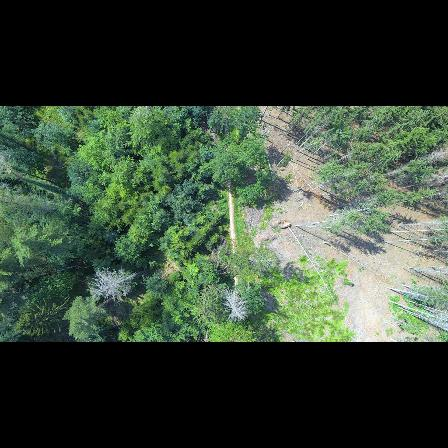Dead: (87, 266, 139, 302), (225, 287, 246, 324)
